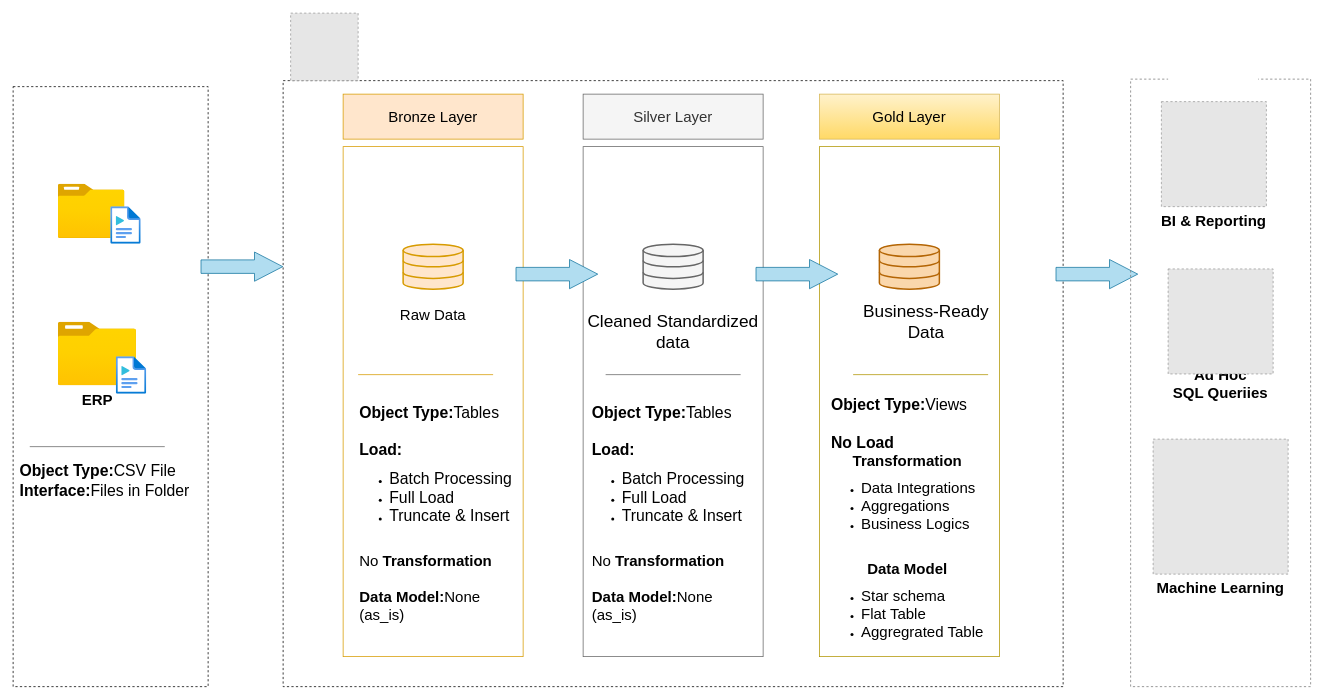
This 1324x700 diagram has some shape labels left out. Grey dashed boxes stand in for pictures. The shapes that lost their labels are listed below. From the top down, each one's centre as x and y in pixels, then its label:
the point at 110,79: Sources
the point at 1213,78: Consume
the point at 91,211: CRM
